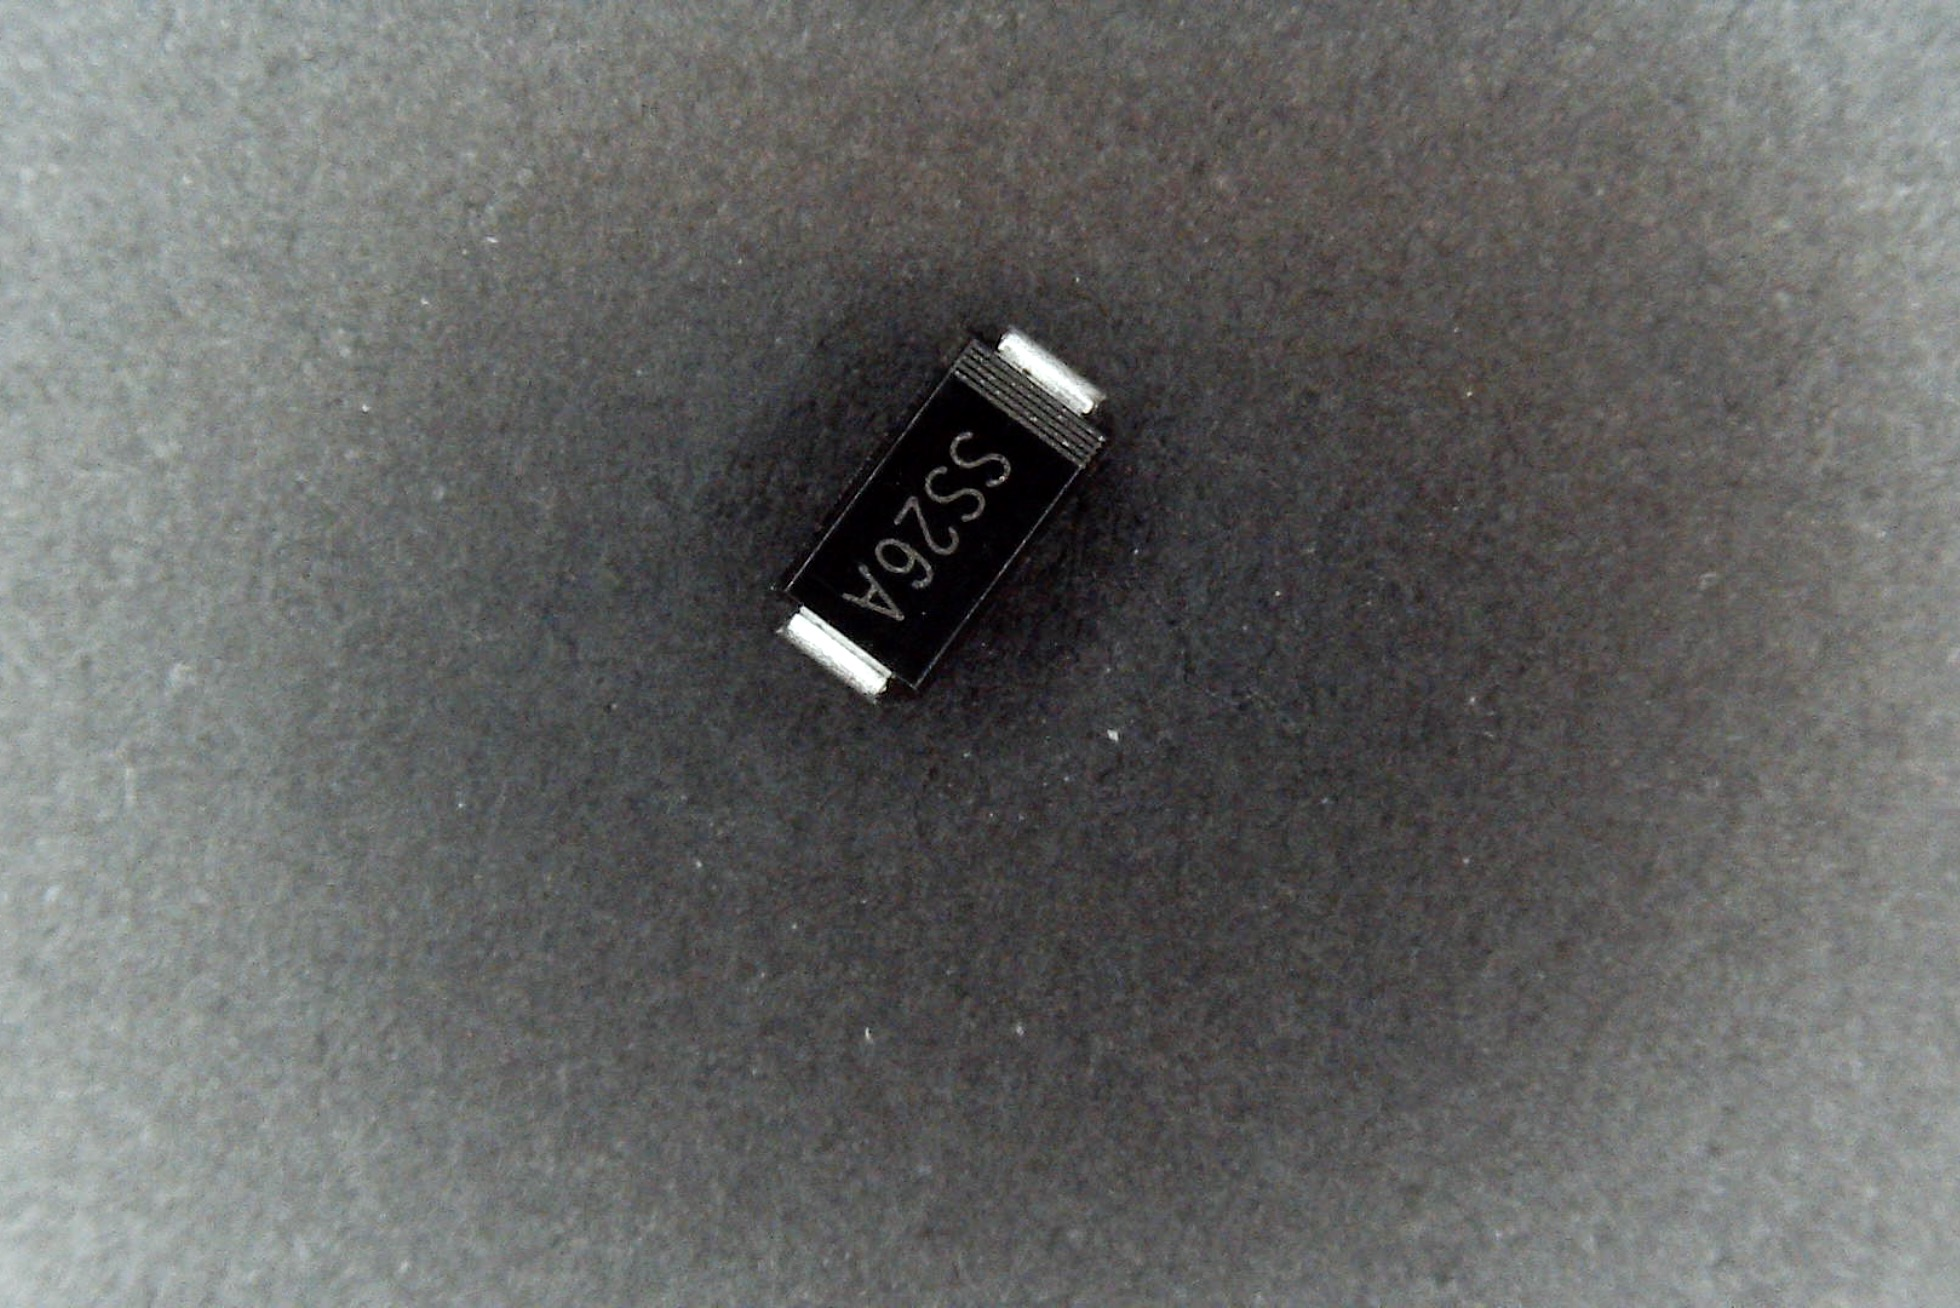bbox: (768, 324, 1111, 712)
